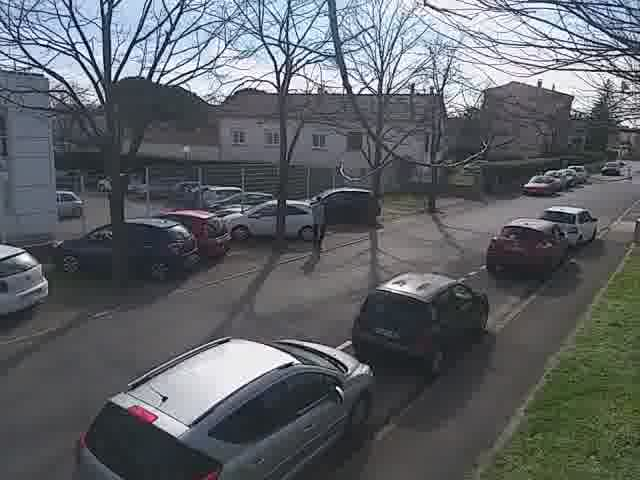persona: (299, 191, 332, 258)
